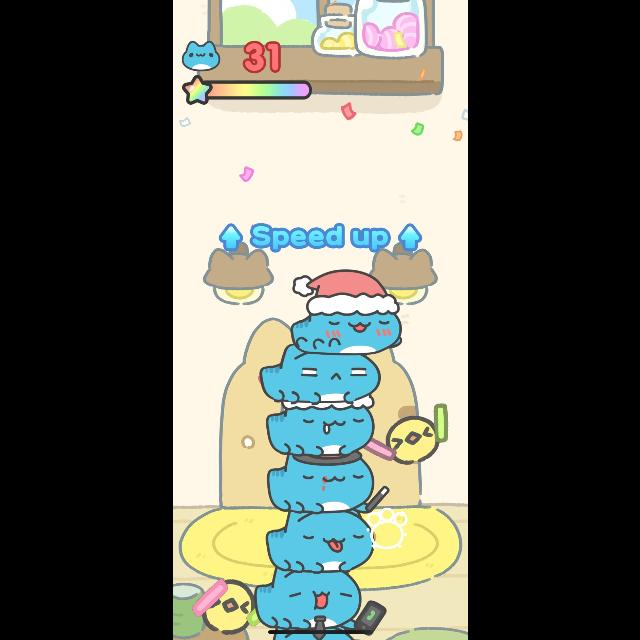capoo: (288, 266, 406, 352), (252, 564, 386, 634), (254, 337, 388, 405), (262, 448, 394, 514), (258, 389, 378, 458), (256, 506, 380, 572)
